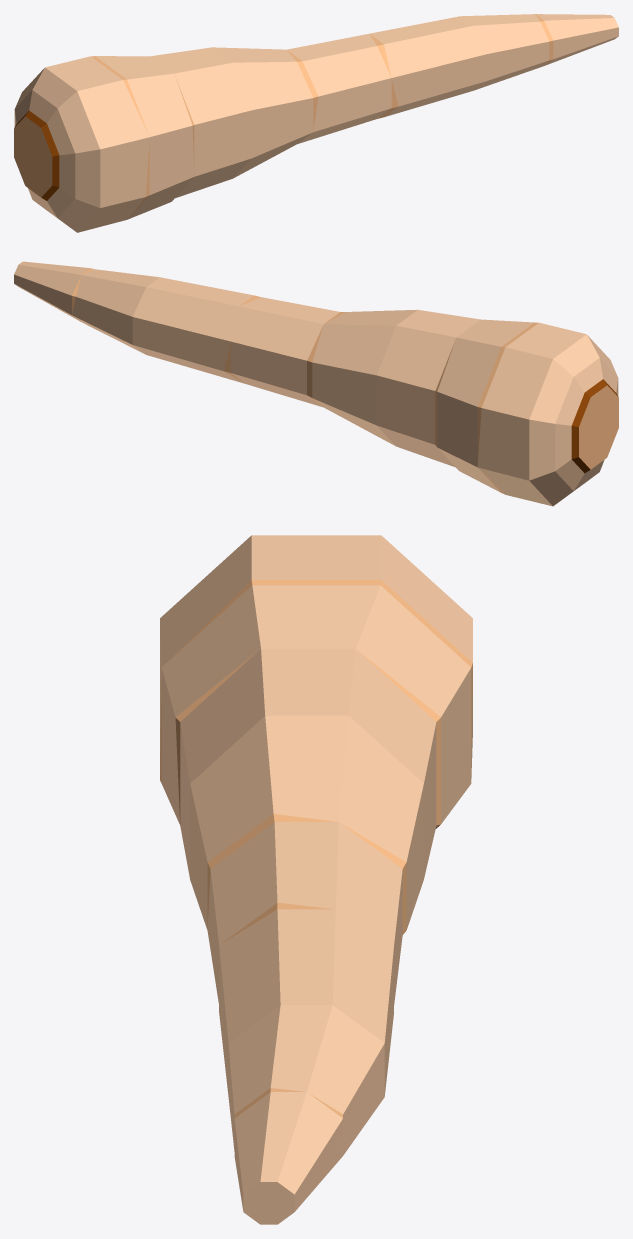
File: parsnip01.obj
3 views of the same model, one above another, from view 1: azimuth 30°, elevation 25°; view 2: azimuth 150°, elevation 25°; view 3: azimuth 270°, elevation 25° (orthographic). The views are drawn at different scales.
Parts seen in each view (by area): view 1: Cylinder.001; view 2: Cylinder.001; view 3: Cylinder.001.
Part boxes in pixels (x1,y1,x2,y2): Cylinder.001: (14, 14, 618, 232); Cylinder.001: (14, 261, 618, 506); Cylinder.001: (160, 535, 472, 1224).
Size of the model in its own units: 0.1611 by 0.0385 by 0.0385.
Materials: 1 (1 with a texture image).
